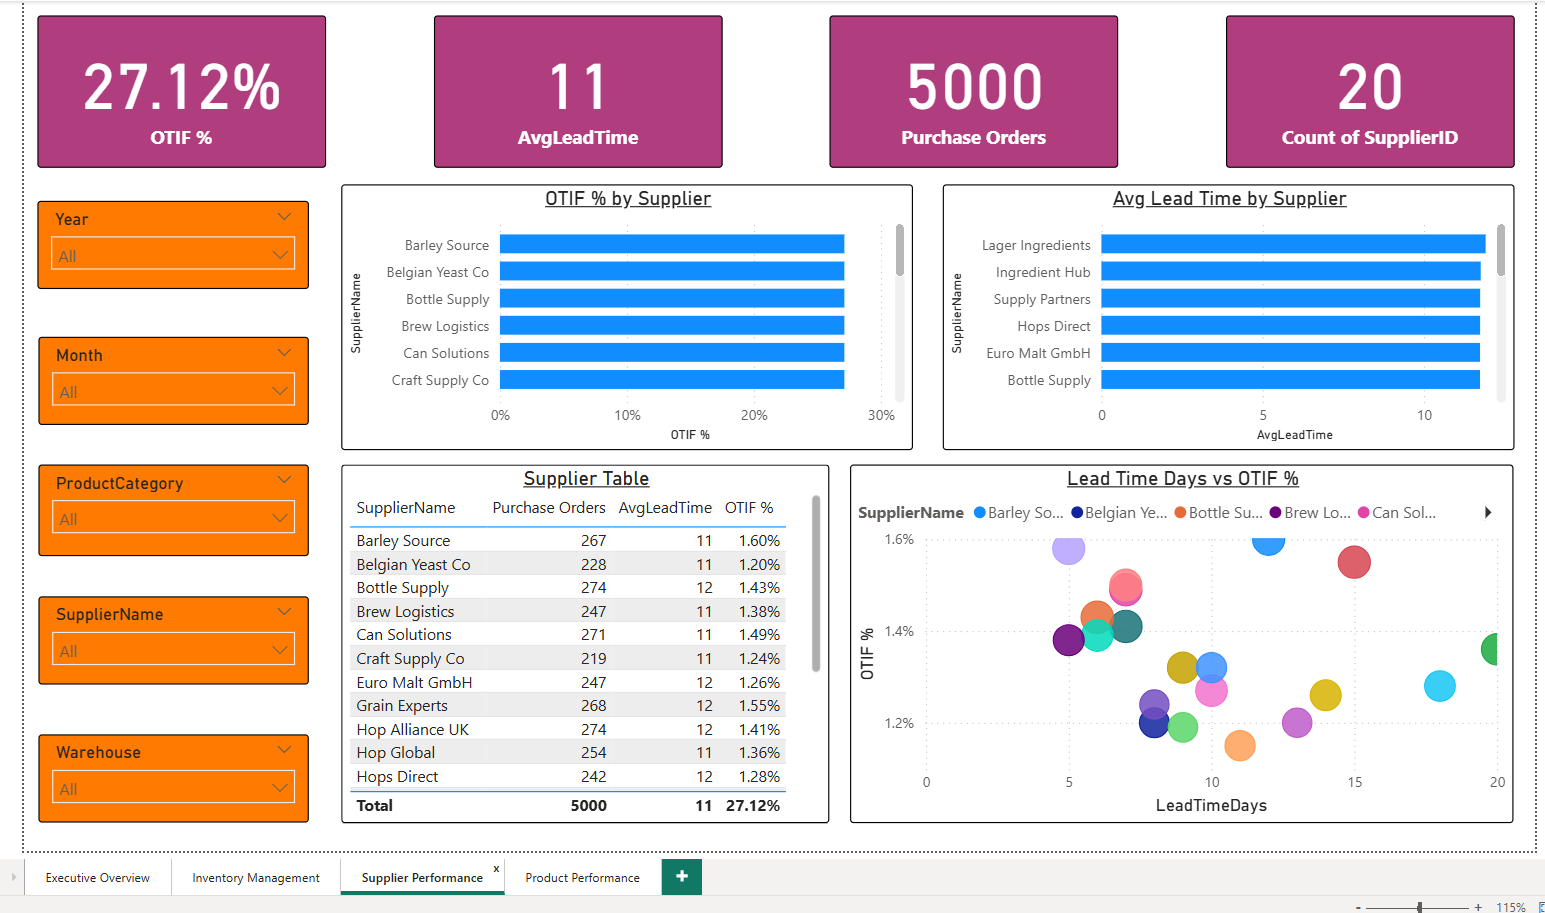

The page's visual inventory and layout, read from the dashboard file:
{"tool":"powerbi","page":{"name":"Supplier Performance","canvas":[1280,720],"ordinal":2},"visuals":[{"type":"card","fields":{"Values":["CountNonNull(DimSupplier.SupplierID)"]},"box":[1018.3,12.5,244.5,129],"z":0},{"type":"card","fields":{"Values":["Measure.Purchase Orders"]},"box":[682.5,12.5,244.5,129],"z":1000},{"type":"card","fields":{"Values":["Measure.AvgLeadTime"]},"box":[347.5,12.5,244.5,129],"z":2000},{"type":"card","fields":{"Values":["Measure.OTIF %"]},"box":[11.6,12.5,244.5,129],"z":3000},{"type":"slicer","fields":{"Values":["DimDate.Year"]},"box":[11.6,169.3,230.2,75.2],"z":4000},{"type":"slicer","fields":{"Values":["DimDate.Month"]},"box":[12.5,284.8,229.3,75.2],"z":5000},{"type":"slicer","fields":{"Values":["DimSupplier.SupplierName"]},"box":[12.5,504.2,229.3,75.2],"z":6000},{"type":"slicer","fields":{"Values":["Dimproduct.ProductCategory"]},"box":[12.5,393.2,229.3,77.9],"z":7000},{"type":"slicer","fields":{"Values":["FactInventory.Warehouse"]},"box":[12.5,621.6,229.3,75.2],"z":8000},{"type":"clusteredBarChart","title":"OTIF % by Supplier","fields":{"Category":["DimSupplierPerformance.SupplierName"],"Y":["Measure.OTIF %"]},"box":[268.7,154.9,484.5,224.8],"z":9000},{"type":"clusteredBarChart","title":"Avg Lead Time by Supplier","fields":{"Y":["Measure.AvgLeadTime"],"Category":["DimSupplier.SupplierName"]},"box":[778.3,154.9,484.5,224.8],"z":10000},{"type":"tableEx","title":"Supplier Table","fields":{"Values":["DimSupplier.SupplierName","Measure.Purchase Orders","Measure.AvgLeadTime","Measure.OTIF %"]},"box":[268.7,393.2,413.8,303.6],"z":11000},{"type":"scatterChart","title":"Lead Time Days vs OTIF %","fields":{"X":["DimSupplier.LeadTimeDays"],"Y":["Measure.OTIF %"],"Size":["Measure.Purchase Orders"],"Series":["DimSupplier.SupplierName"]},"box":[700.4,393.2,562.4,303.6],"z":12000}]}

Visuals, with their boxes on the page's 1280x720 design canvas (x1, y1, x2, y2). These are canvas units, not pixel positions in the 1545x913 screenshot, which may show the page scaled, cropped or inside an application window:
card - CountNonNull(DimSupplier.SupplierID): [left=1018, top=12, right=1263, bottom=142]
card - Measure.Purchase Orders: [left=682, top=12, right=927, bottom=142]
card - Measure.AvgLeadTime: [left=348, top=12, right=592, bottom=142]
card - Measure.OTIF %: [left=12, top=12, right=256, bottom=142]
slicer - DimDate.Year: [left=12, top=169, right=242, bottom=244]
slicer - DimDate.Month: [left=12, top=285, right=242, bottom=360]
slicer - DimSupplier.SupplierName: [left=12, top=504, right=242, bottom=579]
slicer - Dimproduct.ProductCategory: [left=12, top=393, right=242, bottom=471]
slicer - FactInventory.Warehouse: [left=12, top=622, right=242, bottom=697]
"OTIF % by Supplier" clusteredBarChart: [left=269, top=155, right=753, bottom=380]
"Avg Lead Time by Supplier" clusteredBarChart: [left=778, top=155, right=1263, bottom=380]
"Supplier Table" tableEx: [left=269, top=393, right=682, bottom=697]
"Lead Time Days vs OTIF %" scatterChart: [left=700, top=393, right=1263, bottom=697]
